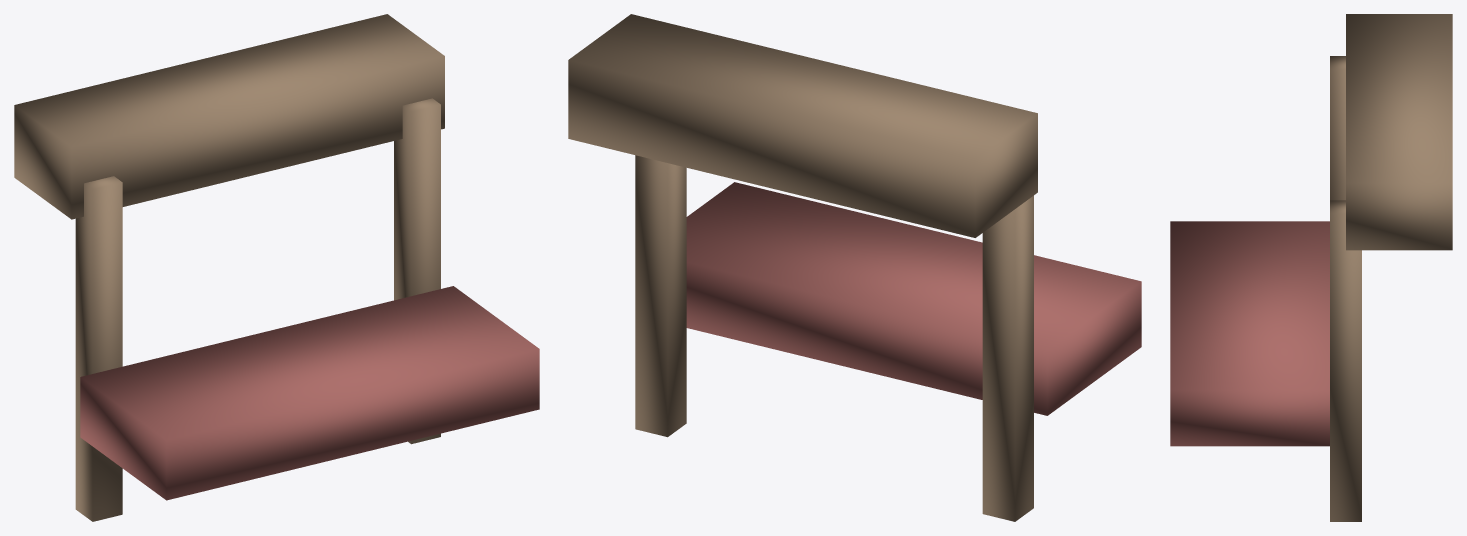
Rendered from prayer_kneeler__tall.glb.
The picture shows the model from 3 angles, left to right: view 1: azimuth 30°, elevation 25°; view 2: azimuth 150°, elevation 25°; view 3: azimuth 270°, elevation 25°; orthographic projection. The views are drawn at different scales.
Parts seen in each view (by area): view 1: world; view 2: world; view 3: world.
Part boxes in pixels (x1,y1,x2,y2): world: (14, 14, 539, 521); world: (568, 14, 1141, 521); world: (1170, 14, 1452, 521).
Bounding box in the file's own units: 0.75 × 0.7134 × 0.53.
